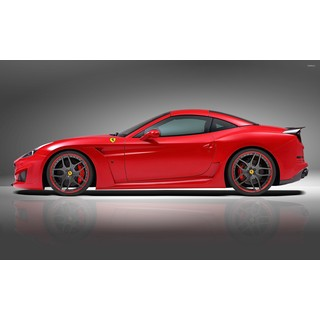car: (8, 108, 320, 196)
